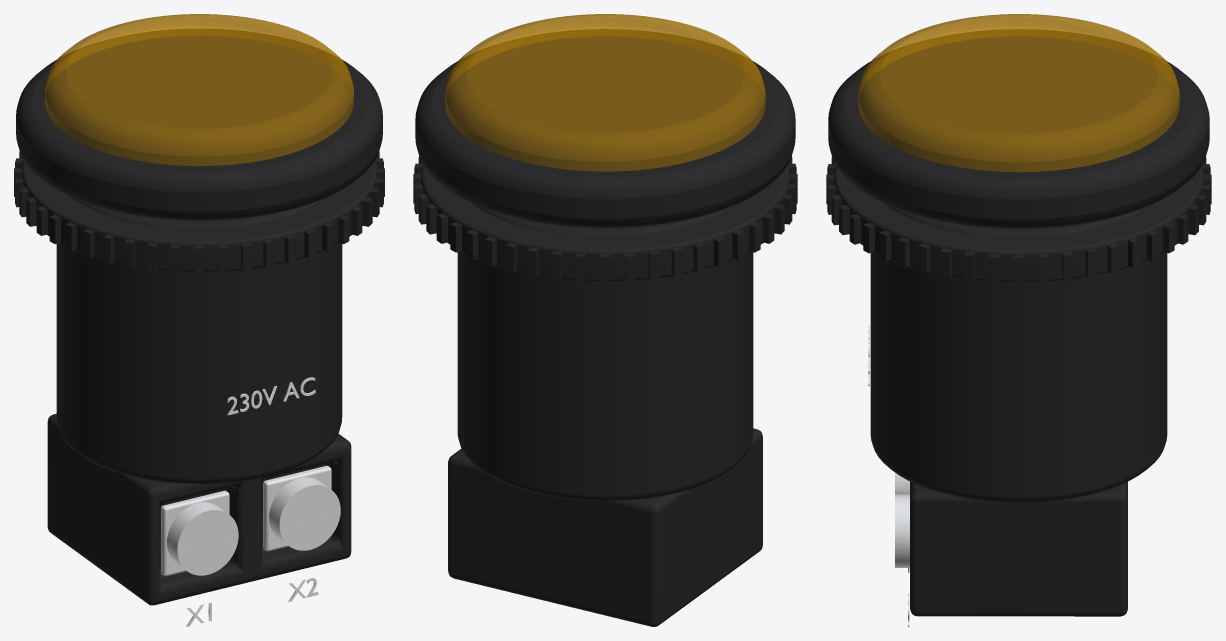
The model's file is lamp_amber_off.glb.
3 views of the same model, side by side, from view 1: azimuth 30°, elevation 25°; view 2: azimuth 150°, elevation 25°; view 3: azimuth 270°, elevation 25° (orthographic). The views are drawn at different scales.
Visible parts, largest first — view 1: body, bezel, lens, rearcap, knurl, Cube, screwhead, screwhead.001, washer.001, washer, txt_230V AC; view 2: body, bezel, lens, rearcap, knurl, Cube; view 3: body, bezel, lens, rearcap, knurl, Cube, screwhead.001.
Part boxes in pixels (x1=…): body: x1=56, y1=197, x2=342, y2=484; bezel: x1=16, y1=29, x2=382, y2=220; lens: x1=45, y1=14, x2=353, y2=166; rearcap: x1=47, y1=413, x2=351, y2=605; knurl: x1=21, y1=159, x2=377, y2=271; Cube: x1=14, y1=151, x2=384, y2=273; screwhead: x1=167, y1=502, x2=238, y2=575; screwhead.001: x1=269, y1=477, x2=340, y2=550; washer.001: x1=263, y1=465, x2=331, y2=551; washer: x1=161, y1=490, x2=229, y2=576; txt_230V AC: x1=227, y1=377, x2=315, y2=415; body: x1=457, y1=204, x2=753, y2=500; bezel: x1=415, y1=29, x2=795, y2=227; lens: x1=445, y1=14, x2=765, y2=171; rearcap: x1=448, y1=428, x2=762, y2=626; knurl: x1=421, y1=165, x2=789, y2=281; Cube: x1=413, y1=156, x2=797, y2=282; body: x1=870, y1=204, x2=1167, y2=502; bezel: x1=828, y1=29, x2=1209, y2=228; lens: x1=858, y1=14, x2=1179, y2=172; rearcap: x1=910, y1=481, x2=1127, y2=616; knurl: x1=834, y1=165, x2=1203, y2=282; Cube: x1=826, y1=157, x2=1211, y2=283; screwhead.001: x1=895, y1=494, x2=909, y2=567.
Bounding box in the file's own units: 0.0283 × 0.0421 × 0.0283.
